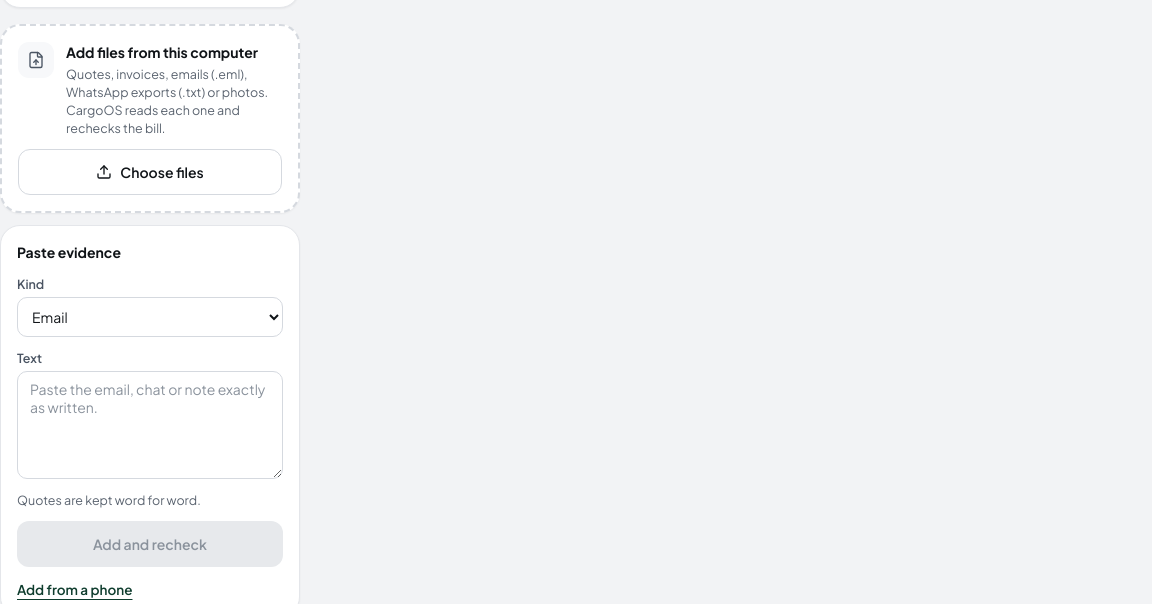
Scenario: DocumentsTab › in the replay, added evidence shows up in the list
(page scrolled)
Type "Note: Derek called, rush handling waived." into the text box labelled "Text". click: (150, 425)
box: [17,371,283,479]
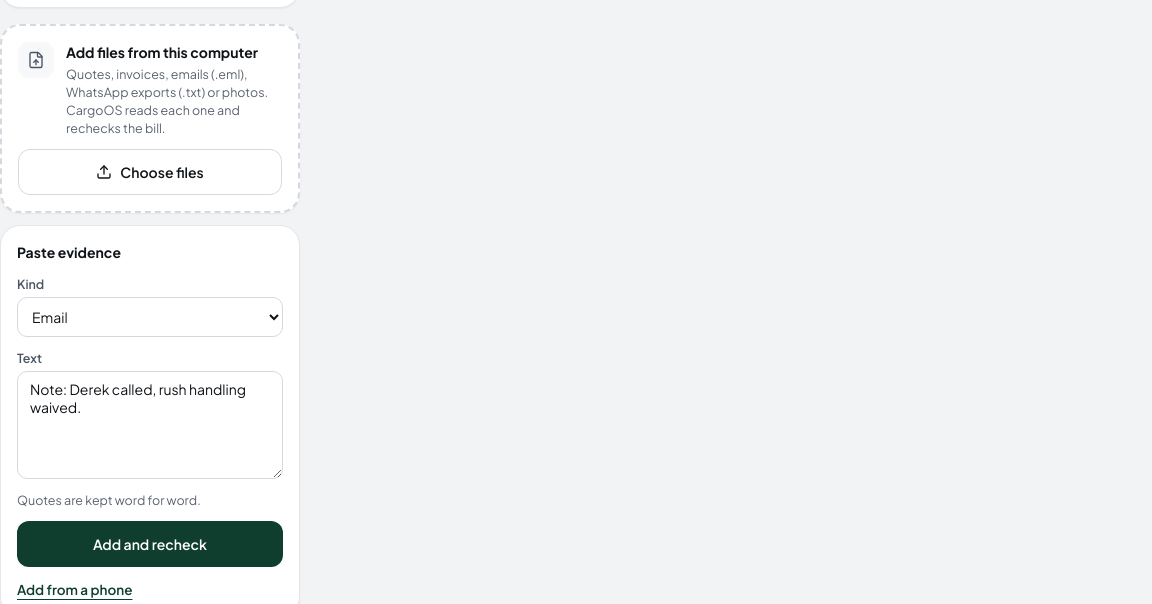
Select "Note" in the dropdown labelled "Kind". click: (150, 317)
box: [17,297,283,337]
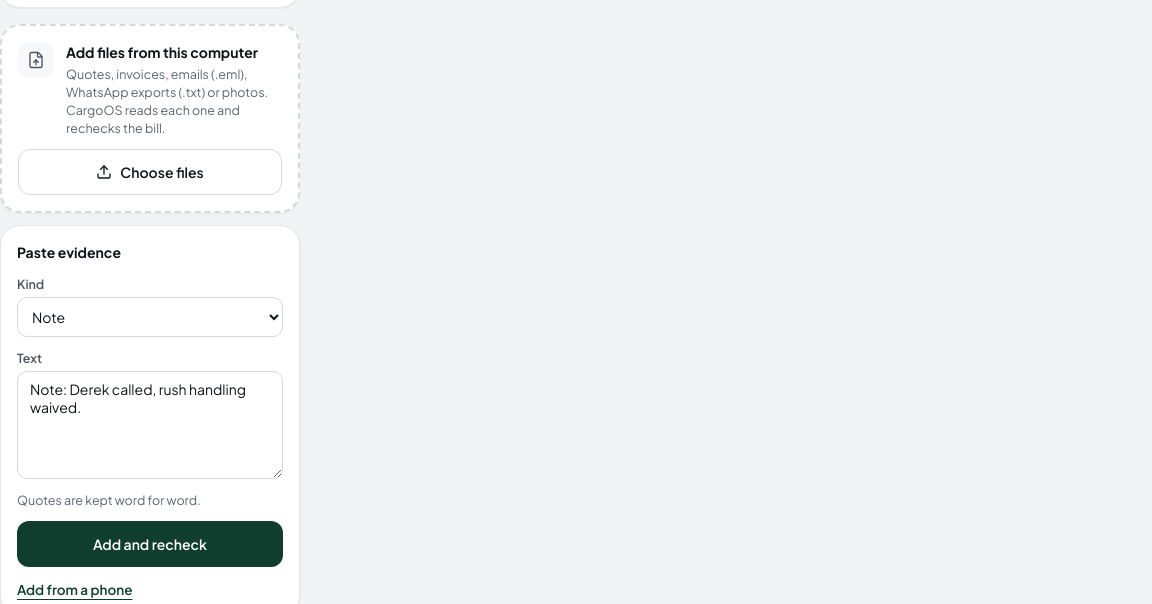
Click the button "Add and recheck". click: (150, 544)
box: [17,521,283,567]
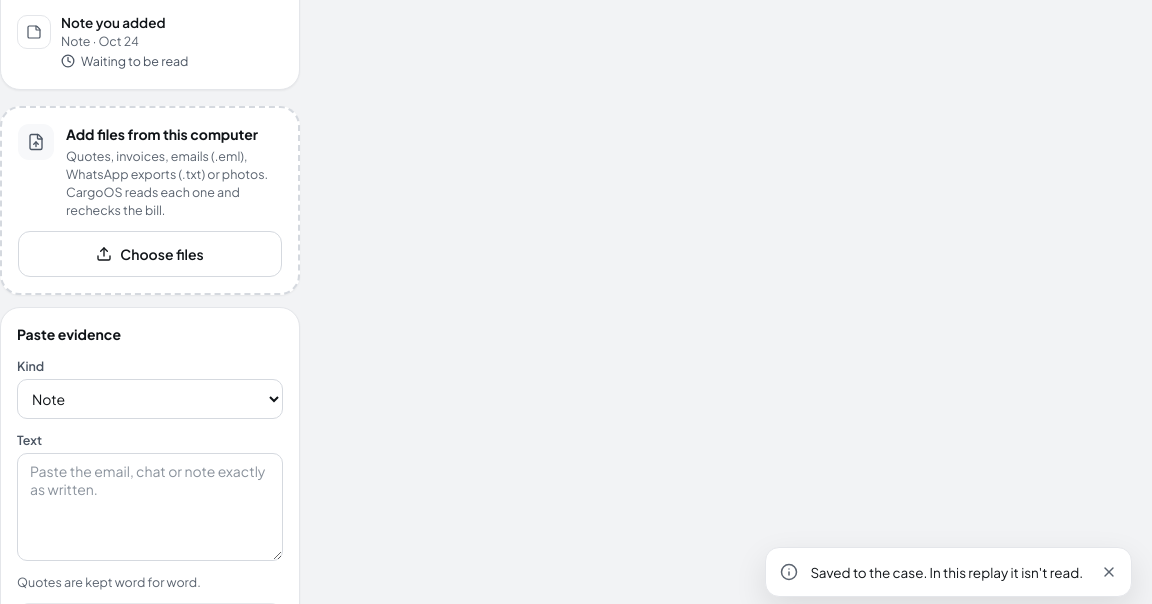
Expected: the text "Note you added" is shown, [61,14,166,31]
